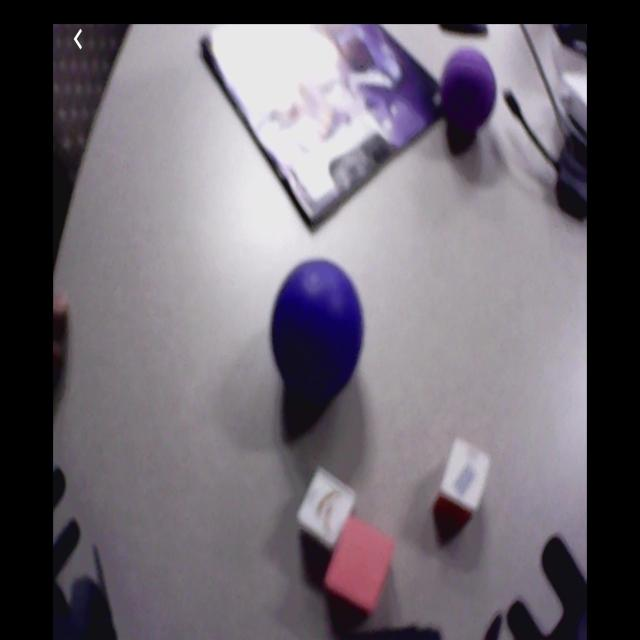ball: (272, 258, 362, 388), (441, 47, 496, 128)
